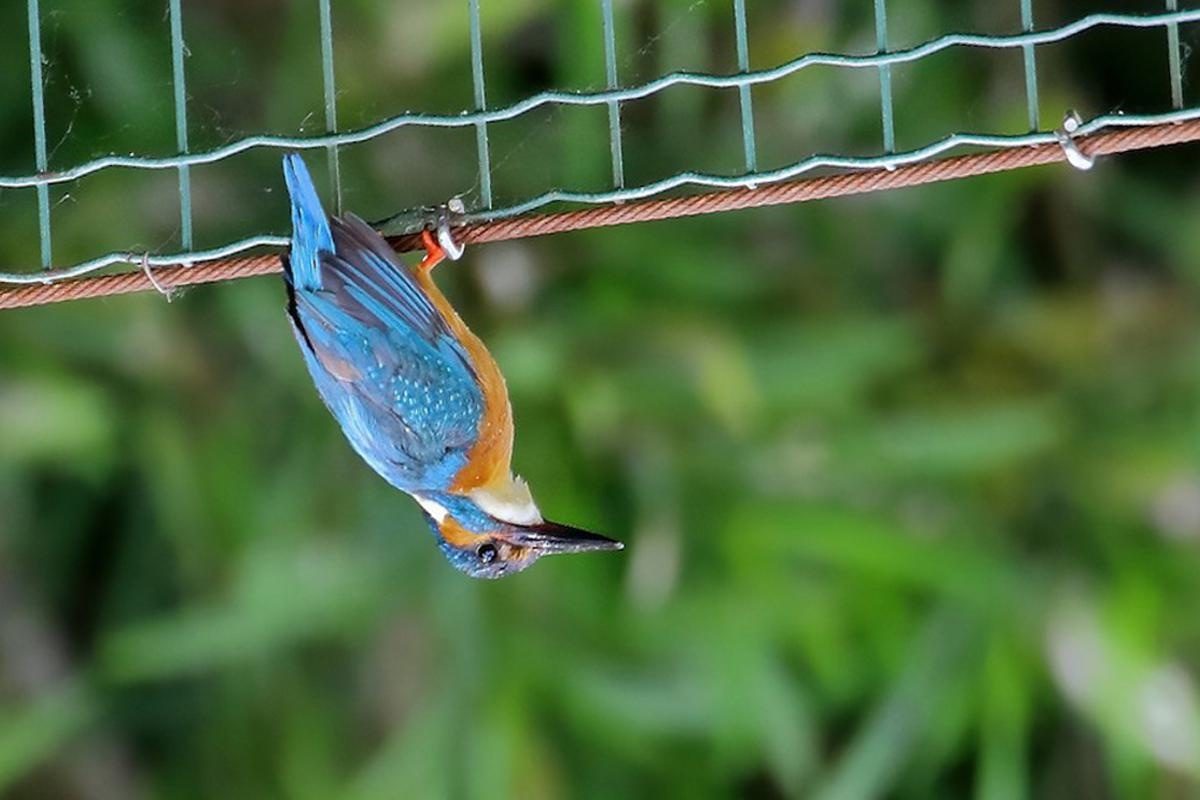kingfisher: (237, 152, 645, 602)
